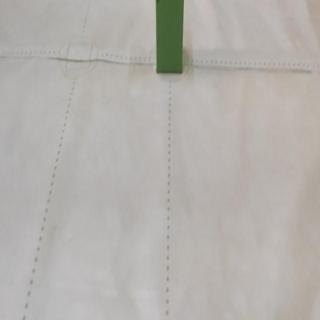greenbox: (157, 0, 185, 76)
